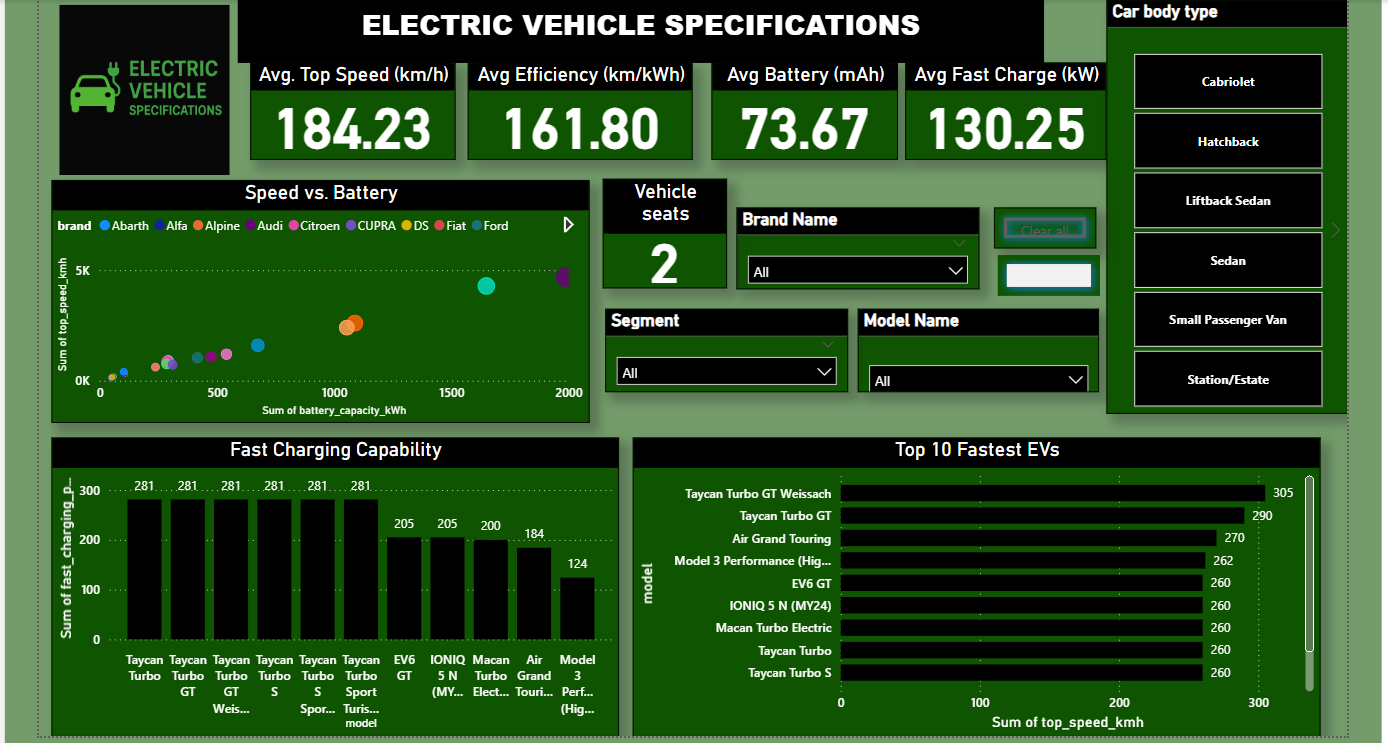

The dashboard page shown, as its layout file describes it:
{"tool":"powerbi","page":{"name":"Page 1","canvas":[1280,720],"ordinal":0},"visuals":[{"type":"card","title":"Avg Battery (mAh)","fields":{"Values":["electric_vehicles_spec_2025 csv.Measure"]},"box":[657.9,61.1,182.2,95.4],"z":0},{"type":"card","title":"Avg. Top Speed (km/h)","fields":{"Values":["electric_vehicles_spec_2025 csv.avg top speed km"]},"box":[206.7,61.1,200.5,95.4],"z":1000},{"type":"card","title":"Avg Efficiency (km/kWh)","fields":{"Values":["electric_vehicles_spec_2025 csv.efficency wh"]},"box":[419.4,61.1,220.1,95.4],"z":2000},{"type":"card","title":"Avg Fast Charge (kW)","fields":{"Values":["electric_vehicles_spec_2025 csv.fast charging"]},"box":[847.4,61.1,196.9,95.4],"z":3000},{"type":"scatterChart","title":"Speed vs. Battery","fields":{"X":["Sum(electric_vehicles_spec_2025 csv.battery_capacity_kWh)"],"Y":["Sum(electric_vehicles_spec_2025 csv.top_speed_kmh)"],"Size":["CountNonNull(electric_vehicles_spec_2025 csv.range_km)"],"Series":["electric_vehicles_spec_2025 csv.brand"]},"box":[12.5,176.2,526.2,237.5],"z":4000},{"type":"clusteredBarChart","title":"Top 10 Fastest EVs","fields":{"Y":["Sum(electric_vehicles_spec_2025 csv.top_speed_kmh)"],"Category":["electric_vehicles_spec_2025 csv.model"]},"box":[581.2,427.5,672.5,292.5],"z":5000},{"type":"columnChart","title":"Fast Charging Capability","fields":{"Category":["electric_vehicles_spec_2025 csv.model"],"Y":["Sum(electric_vehicles_spec_2025 csv.fast_charging_power_kw_dc)"]},"box":[12.5,427.5,555,292.5],"z":6000},{"type":"slicer","title":"Brand  Name","fields":{"Values":["electric_vehicles_spec_2025 csv.brand"]},"box":[682.5,202.5,237.5,80],"z":7000},{"type":"slicer","title":"Segment","fields":{"Values":["electric_vehicles_spec_2025 csv.segment"]},"box":[553.8,302.5,237.5,81.2],"z":8000},{"type":"slicer","title":"Model Name","fields":{"Values":["electric_vehicles_spec_2025 csv.model"]},"box":[801.2,302.5,236.2,81.2],"z":9000},{"type":"slicer","title":"Car body type","fields":{"Values":["electric_vehicles_spec_2025 csv.car_body_type"]},"box":[1043.8,0,236.2,405],"z":10000},{"type":"actionButton","title":"Clear","box":[933.8,202.5,100,40],"z":11000},{"type":"actionButton","box":[937.5,250,100,40],"z":12000},{"type":"textbox","box":[195,0,788.8,61.2],"z":13000},{"type":"card","title":"Vehicle seats","fields":{"Values":["Min(electric_vehicles_spec_2025 csv.seats)"]},"box":[551.2,175,121.2,107.5],"z":14000},{"type":"image","box":[0,0,206.2,176.2],"z":15000}]}

Visuals, with their boxes on the page's 1280x720 design canvas (x1, y1, x2, y2). These are canvas units, not pixel positions in the 1388x743 screenshot, which may show the page scaled, cropped or inside an application window:
"Avg Battery (mAh)" card: x1=658 y1=61 x2=840 y2=156
"Avg. Top Speed (km/h)" card: x1=207 y1=61 x2=407 y2=156
"Avg Efficiency (km/kWh)" card: x1=419 y1=61 x2=640 y2=156
"Avg Fast Charge (kW)" card: x1=847 y1=61 x2=1044 y2=156
"Speed vs. Battery" scatterChart: x1=12 y1=176 x2=539 y2=414
"Top 10 Fastest EVs" clusteredBarChart: x1=581 y1=428 x2=1254 y2=720
"Fast Charging Capability" columnChart: x1=12 y1=428 x2=568 y2=720
"Brand  Name" slicer: x1=682 y1=202 x2=920 y2=282
"Segment" slicer: x1=554 y1=302 x2=791 y2=384
"Model Name" slicer: x1=801 y1=302 x2=1037 y2=384
"Car body type" slicer: x1=1044 y1=0 x2=1280 y2=405
"Clear" actionButton: x1=934 y1=202 x2=1034 y2=242
actionButton: x1=938 y1=250 x2=1038 y2=290
textbox: x1=195 y1=0 x2=984 y2=61
"Vehicle seats" card: x1=551 y1=175 x2=672 y2=282
image: x1=0 y1=0 x2=206 y2=176
